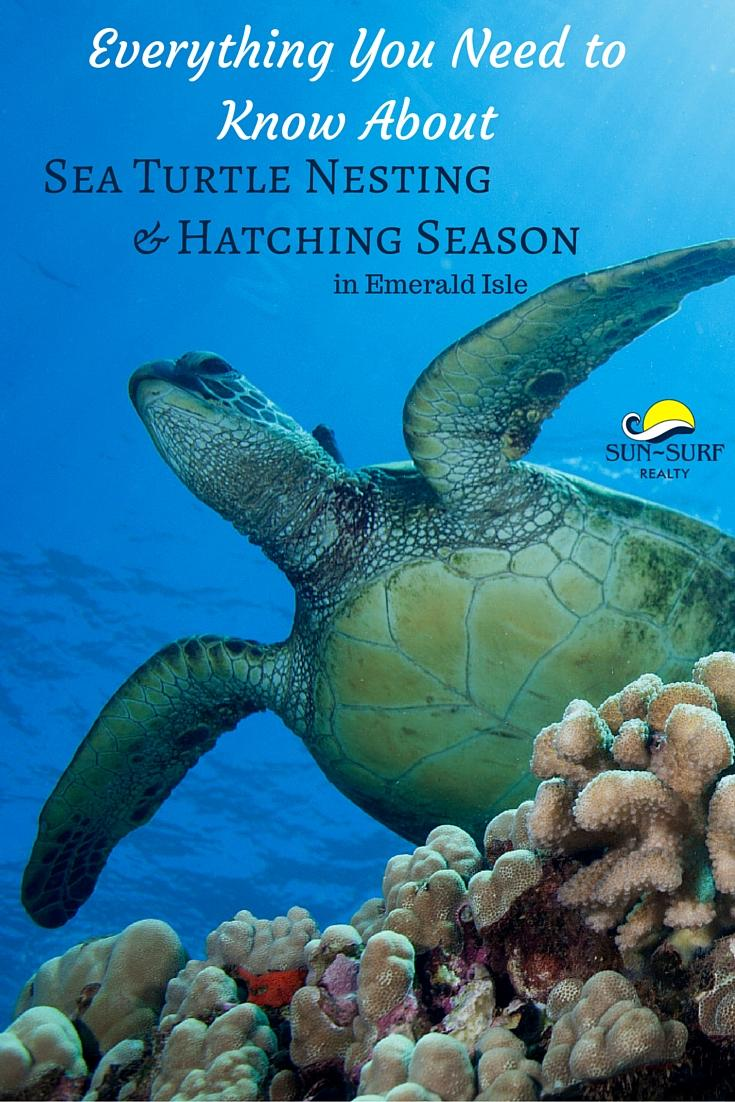turtle: (100, 326, 310, 516)
